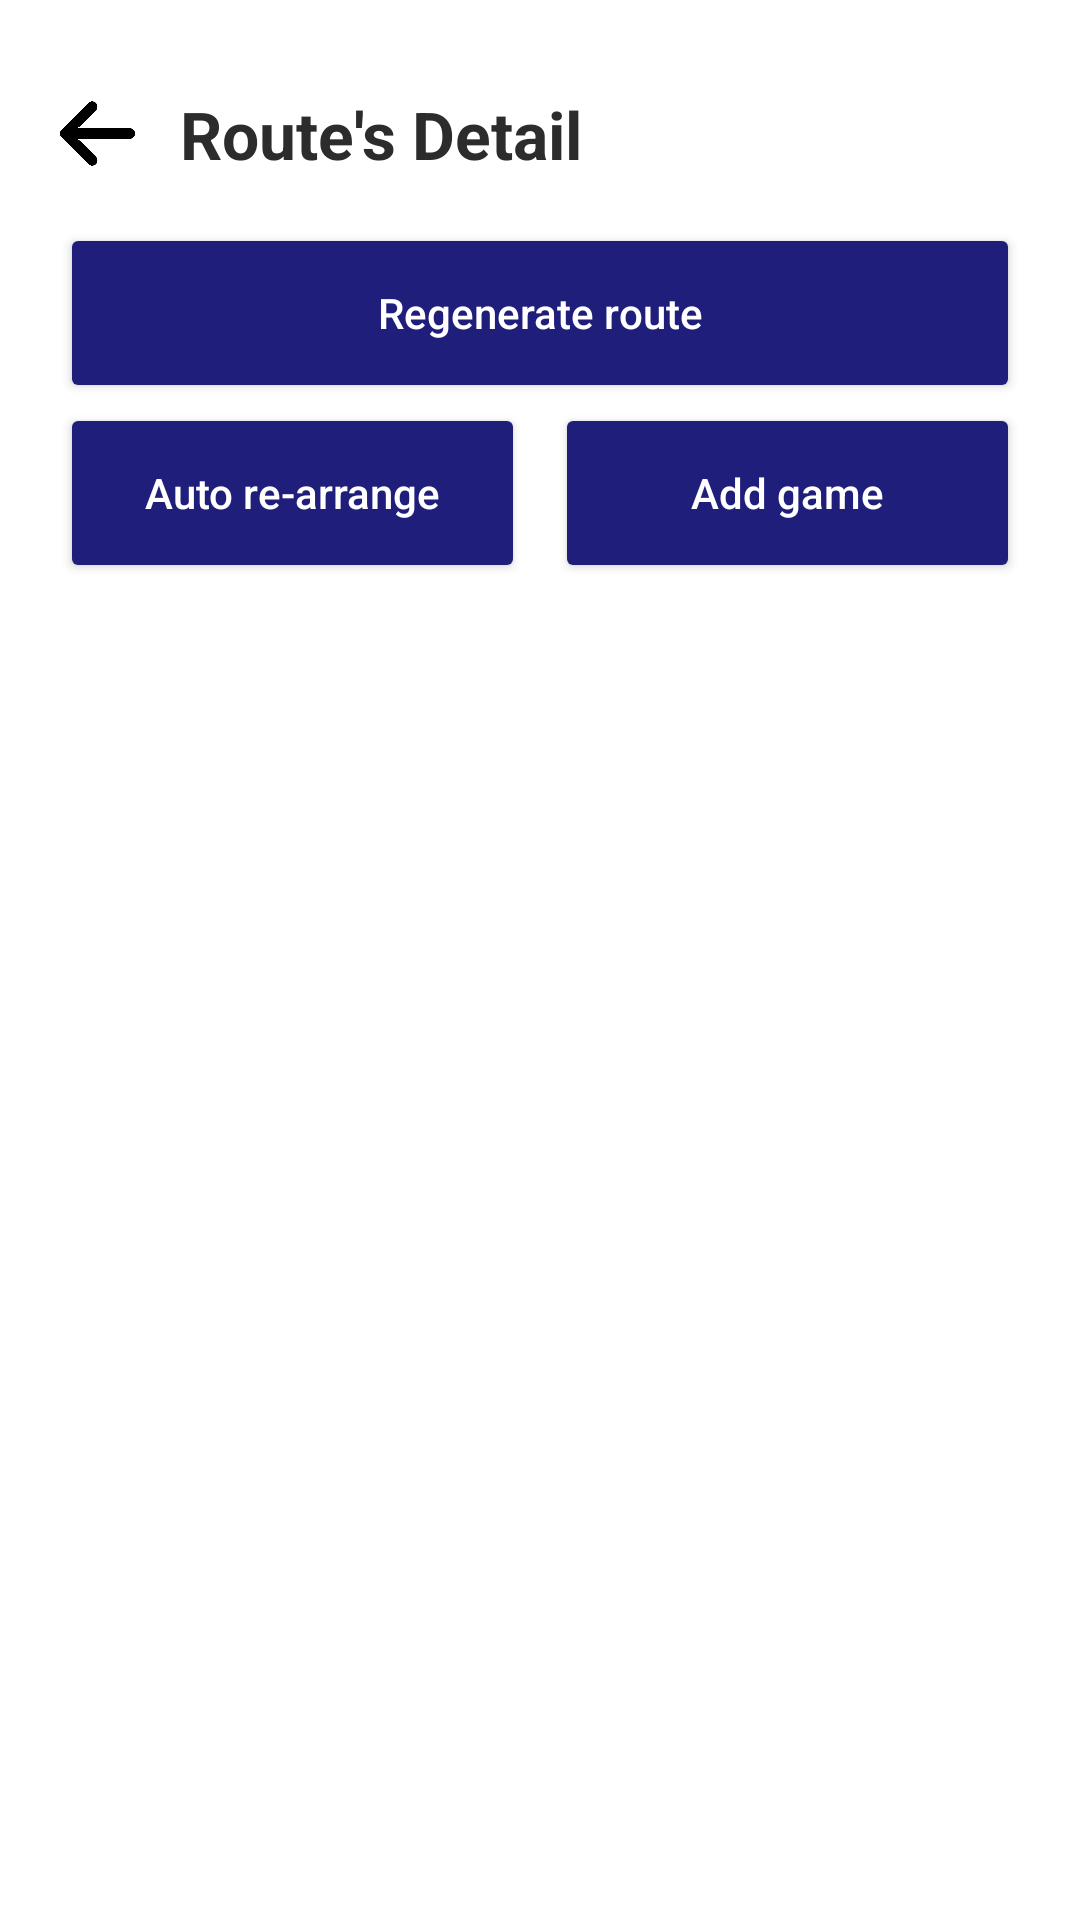

Locate icon controls on the screen. Image size 1080x1920, boxes as (x1, y1, x2, y2).
arrow prev: (60, 101, 135, 166)
